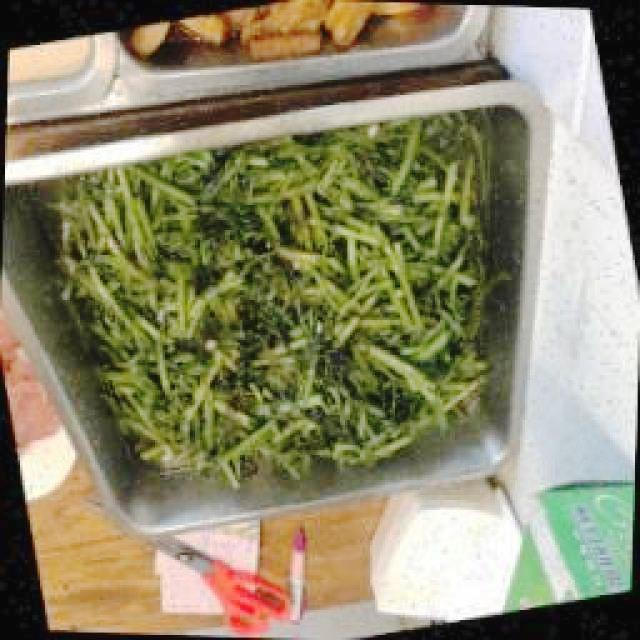water_spinach: (47, 183, 491, 475)
